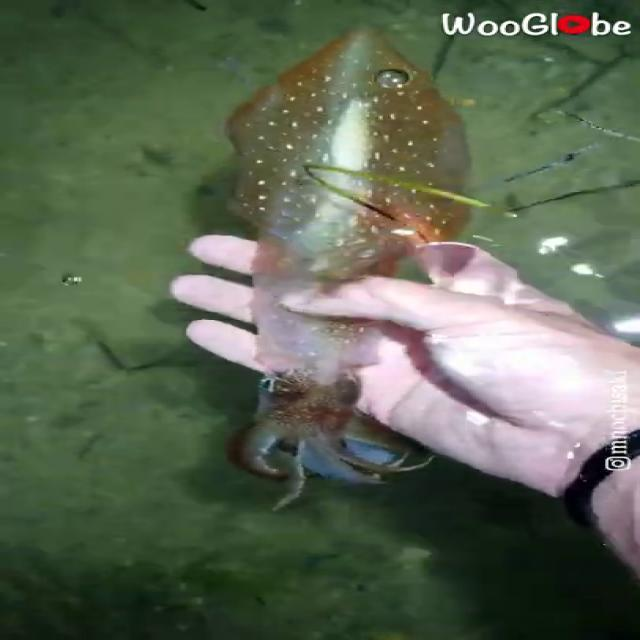squid: (224, 24, 476, 513)
